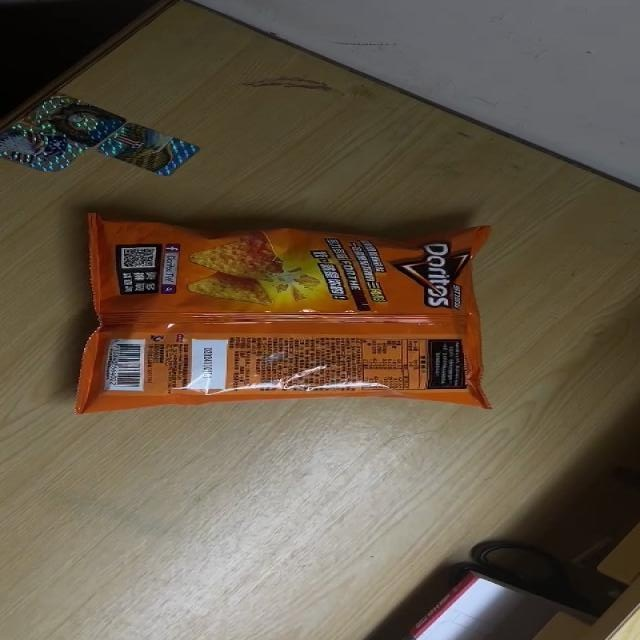Doritos: (72, 215, 499, 416)
